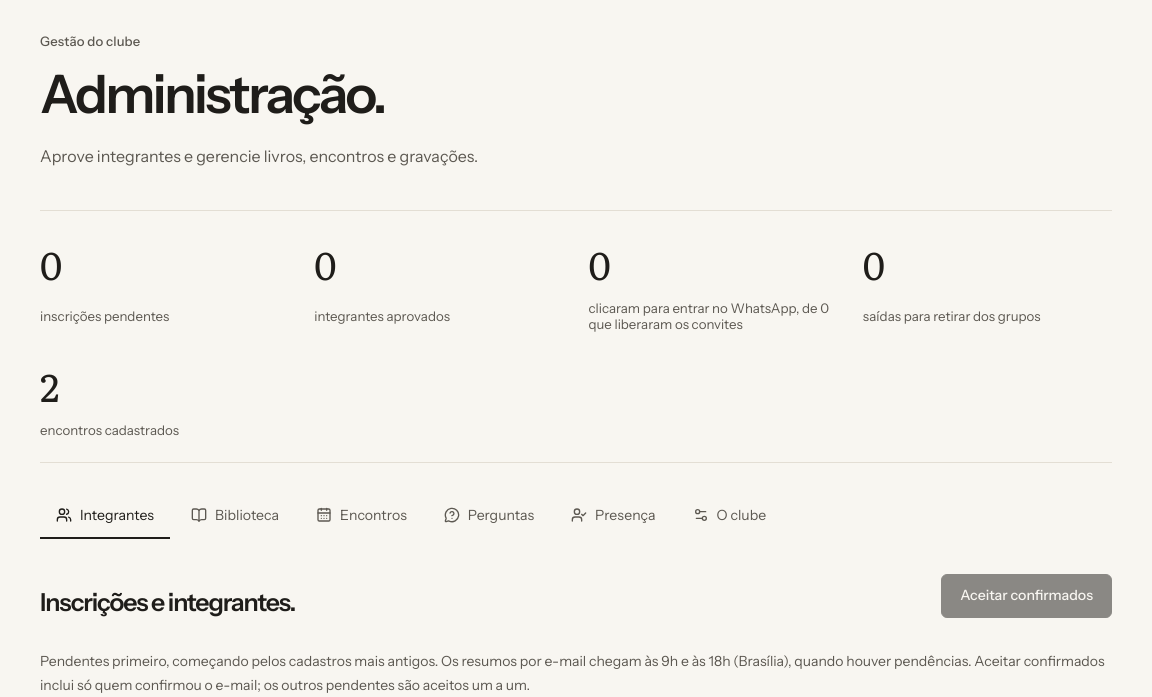
Test: upcoming meetings show totals and offer the invitation; past ones do not
This screenshot has width=1152, height=697.
Click the button "Encontros".
click(361, 516)  # box x1=300 y1=493 x2=423 y2=539
(page scrolled)
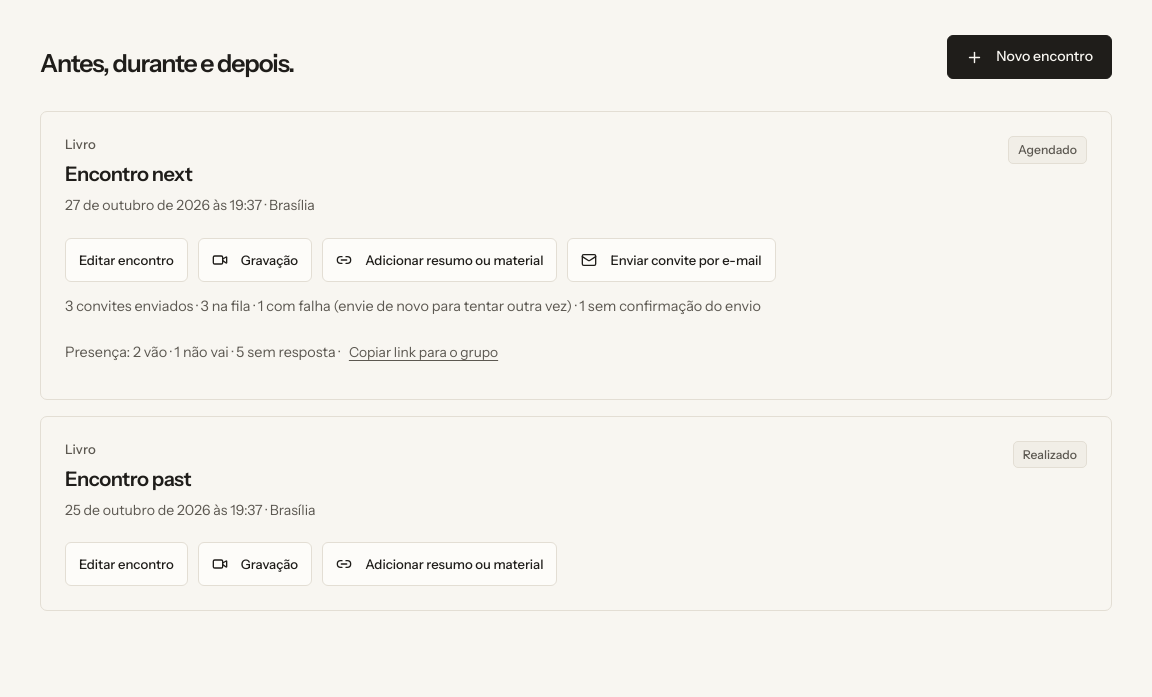
Check: the text "3 convites enviados · 3 na fila · 1 com falha (envie de novo para tentar outra vez) · 1 sem confirmação do envio" is shown, box x1=65 y1=297 x2=761 y2=315
Check: the text "Presença: 2 vão · 1 não vai · 5 sem resposta" is shown, box x1=65 y1=330 x2=504 y2=374
Check: the number of buttons "Copiar link para o grupo" is 1, box x1=343 y1=330 x2=504 y2=374
